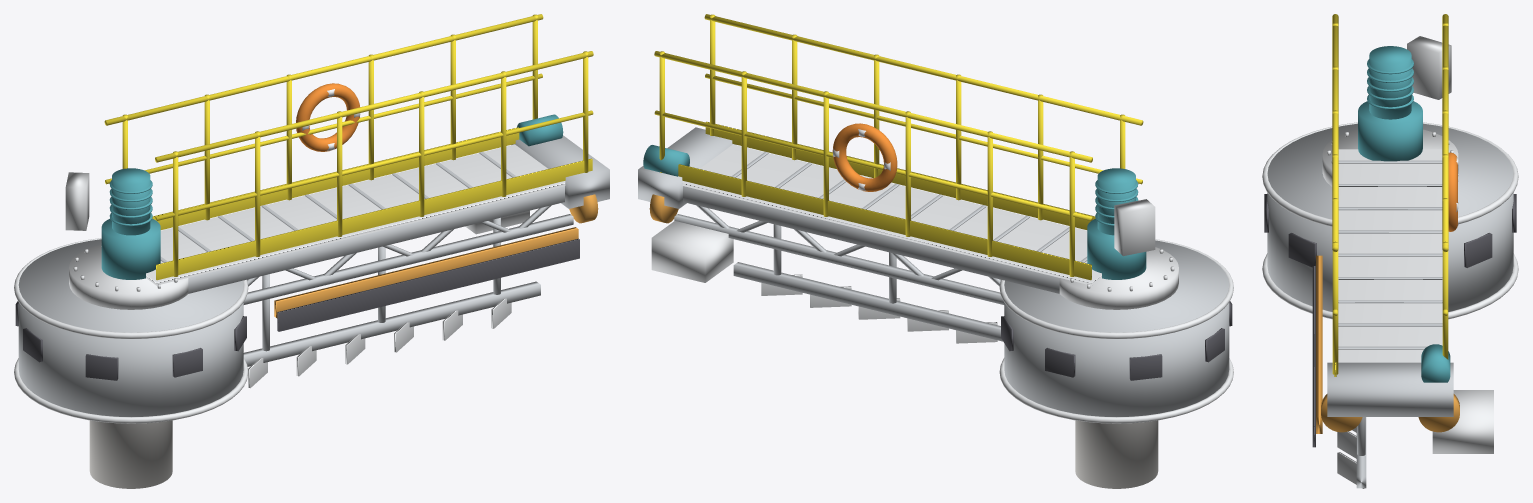
Rendered from clarifier_drive.glb.
3 renders of one model, left to right at view 1: azimuth 30°, elevation 25°; view 2: azimuth 150°, elevation 25°; view 3: azimuth 270°, elevation 25°, orthographic. The views are drawn at different scales.
Visible parts, largest first — view 1: CenterFeedwellBaffle, WalkwayGratingDeck, KickPlate_-0.34, NeopreneScumWiper, LowerTrussChord_-0.3, CenterConcretePier, SubmergedRakeArm, KickPlate_0.34, SurfaceScumSkimmerArm, SlewingRingTurntable, BottomTrussStringer_-0.3, PlanetaryGearbox (+23 smaller); view 2: CenterFeedwellBaffle, WalkwayGratingDeck, KickPlate_0.34, LowerTrussChord_0.3, CenterConcretePier, SubmergedRakeArm, ScumCollectionBox, SlewingRingTurntable, KickPlate_-0.34, BottomTrussStringer_0.3, EndTractionBogie, HandrailTop_0.34 (+21 smaller); view 3: WalkwayGratingDeck, CenterFeedwellBaffle, EndTractionBogie, PlanetaryGearbox, ScumCollectionBox, TEFC_DriveMotor, TorqueMonitorPanel, FeedwellStiffener_1.37, HandrailTop_0.34, HandrailTop_-0.34, FeedwellStiffener_0.74, SurfaceScumSkimmerArm (+23 smaller).
Part boxes in pixels (x1,y1,x2,y2): CenterFeedwellBaffle: [18, 239, 243, 423]; WalkwayGratingDeck: [146, 144, 565, 285]; KickPlate_-0.34: [156, 158, 592, 280]; NeopreneScumWiper: [277, 238, 579, 331]; LowerTrussChord_-0.3: [188, 186, 564, 293]; CenterConcretePier: [89, 420, 172, 488]; SubmergedRakeArm: [243, 281, 540, 366]; KickPlate_0.34: [152, 127, 519, 229]; SurfaceScumSkimmerArm: [274, 227, 578, 318]; SlewingRingTurntable: [69, 244, 188, 309]; BottomTrussStringer_-0.3: [243, 214, 573, 304]; PlanetaryGearbox: [101, 219, 160, 279]; CenterFeedwellBaffle: [1004, 240, 1229, 423]; WalkwayGratingDeck: [682, 144, 1101, 285]; KickPlate_0.34: [678, 164, 1091, 280]; LowerTrussChord_0.3: [683, 186, 1092, 293]; CenterConcretePier: [1075, 420, 1158, 488]; SubmergedRakeArm: [733, 262, 1002, 341]; ScumCollectionBox: [651, 221, 733, 282]; SlewingRingTurntable: [1059, 247, 1178, 309]; KickPlate_-0.34: [705, 121, 1095, 229]; BottomTrussStringer_0.3: [674, 214, 1004, 304]; EndTractionBogie: [638, 127, 736, 208]; HandrailTop_0.34: [654, 51, 1092, 162]; WalkwayGratingDeck: [1338, 149, 1442, 362]; CenterFeedwellBaffle: [1267, 123, 1513, 311]; EndTractionBogie: [1327, 362, 1453, 416]; PlanetaryGearbox: [1358, 101, 1422, 161]; ScumCollectionBox: [1432, 390, 1493, 453]; TEFC_DriveMotor: [1369, 46, 1411, 119]; TorqueMonitorPanel: [1407, 36, 1451, 99]; FeedwellStiffener_1.37: [1262, 122, 1518, 226]; HandrailTop_0.34: [1442, 14, 1448, 251]; HandrailTop_-0.34: [1332, 14, 1338, 251]; FeedwellStiffener_0.74: [1262, 253, 1518, 319]; SurfaceScumSkimmerArm: [1316, 255, 1322, 433].
Size of the model in its own units: 4.3 by 2.48 by 1.58.
